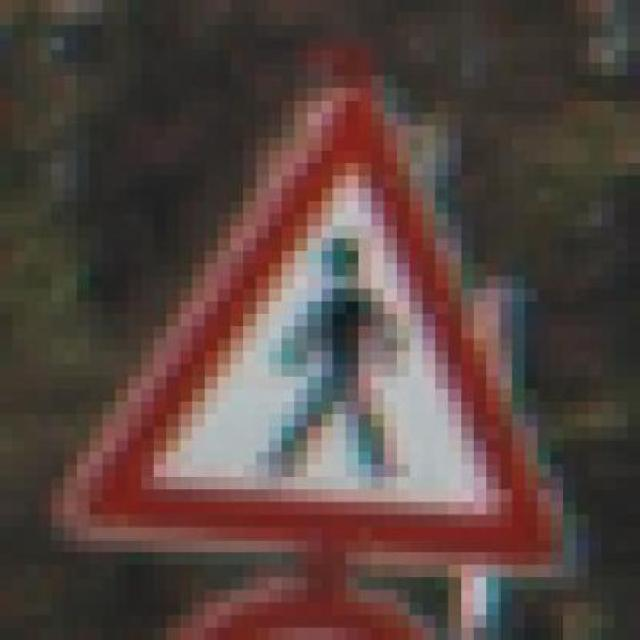Pedestrian Crossing: (38, 50, 614, 578)
